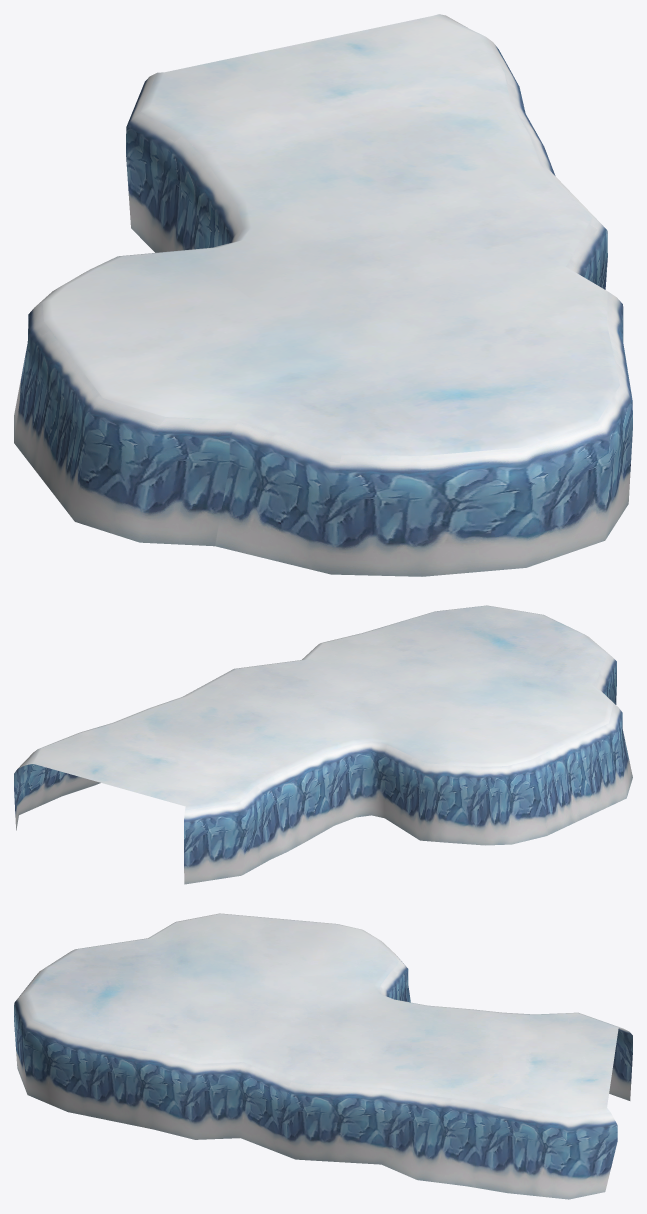
Rendered from SM_ground_03.fbx.
3 renders of one model, top to bottom at view 1: azimuth 30°, elevation 25°; view 2: azimuth 150°, elevation 25°; view 3: azimuth 270°, elevation 25°, orthographic. The views are drawn at different scales.
Parts seen in each view (by area): view 1: SM_ground_03; view 2: SM_ground_03; view 3: SM_ground_03.
Part boxes in pixels (x1,y1,x2,y2): SM_ground_03: (14,14,632,576); SM_ground_03: (14,605,632,884); SM_ground_03: (14,913,632,1199).
Size of the model in its own units: 25.98 by 4.13 by 30.72.
